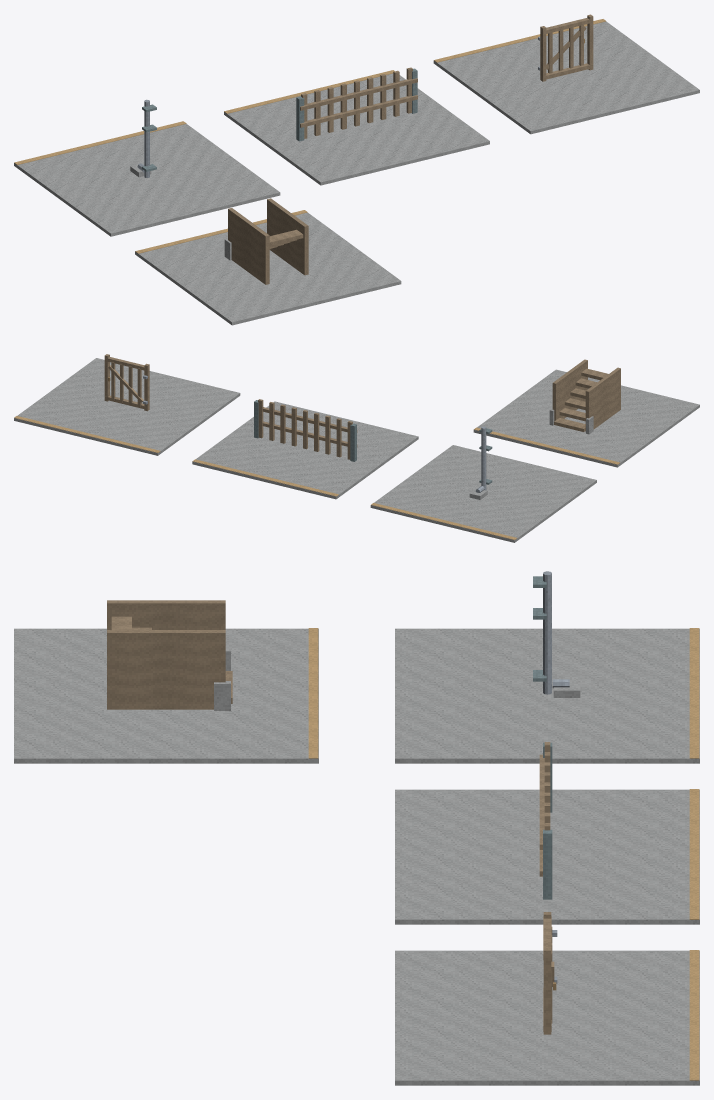
The model's file is level_blockout_kit_wld_16_p05.glb.
3 views of the same model, one above another, from view 1: azimuth 30°, elevation 25°; view 2: azimuth 150°, elevation 25°; view 3: azimuth 270°, elevation 25° (orthographic). The views are drawn at different scales.
Parts seen in each view (by area): view 1: level_blockout_kit_wld_16_p05; view 2: level_blockout_kit_wld_16_p05; view 3: level_blockout_kit_wld_16_p05.
Boxes of the visible parts, x1,y1,x2,y2 form: level_blockout_kit_wld_16_p05: (14, 14, 699, 325); level_blockout_kit_wld_16_p05: (14, 354, 699, 542); level_blockout_kit_wld_16_p05: (14, 571, 699, 1085).
Bounding box in the file's own units: 19.65 × 2.54 × 12.6.
Materials: 6 (6 with a texture image).
